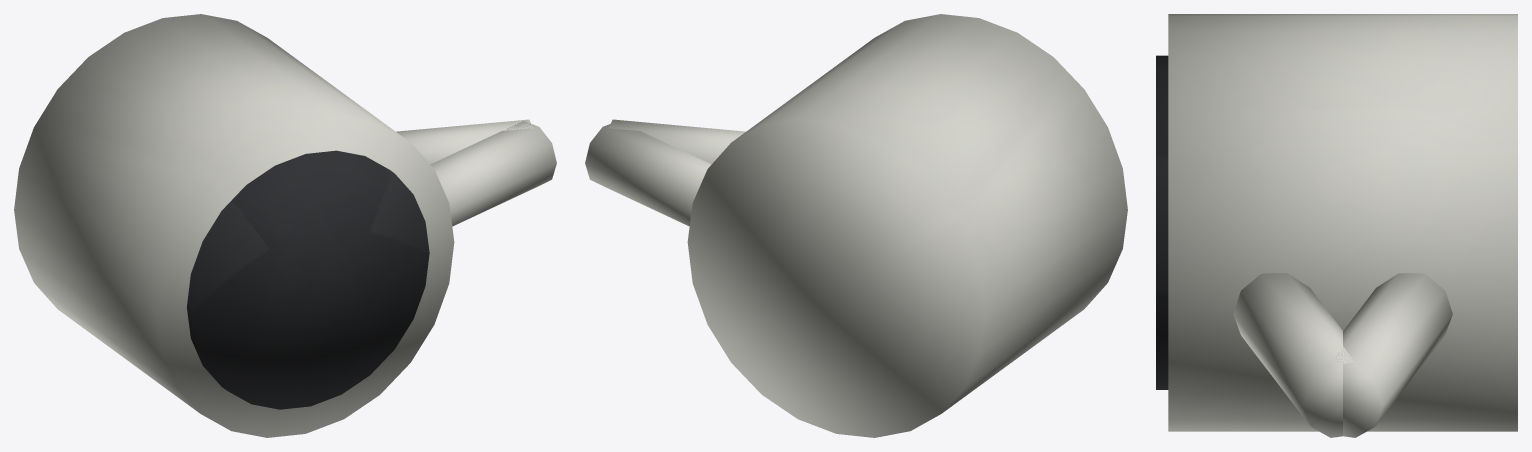
File: MUG_CERAMIC_001.glb
3 views of the same model, side by side, from view 1: azimuth 30°, elevation 25°; view 2: azimuth 150°, elevation 25°; view 3: azimuth 270°, elevation 25° (orthographic). The views are drawn at different scales.
Visible parts, largest first — view 1: mug_body_000, coffee_inside_001, handle_top_002, handle_bottom_003; view 2: mug_body_000, handle_bottom_003, handle_top_002; view 3: mug_body_000, handle_top_002, handle_bottom_003, coffee_inside_001.
Part boxes in pixels (bbox=[...]): mug_body_000: bbox=[14, 14, 454, 437]; coffee_inside_001: bbox=[186, 150, 429, 409]; handle_top_002: bbox=[430, 121, 556, 226]; handle_bottom_003: bbox=[396, 119, 533, 164]; mug_body_000: bbox=[687, 14, 1127, 437]; handle_bottom_003: bbox=[585, 121, 711, 226]; handle_top_002: bbox=[608, 119, 745, 164]; mug_body_000: bbox=[1168, 14, 1517, 431]; handle_top_002: bbox=[1233, 273, 1354, 437]; handle_bottom_003: bbox=[1333, 273, 1452, 437]; coffee_inside_001: bbox=[1156, 55, 1168, 389].
Size of the model in its own units: 0.1837 by 0.12 by 0.1035.
Materials: 2 (2 with a texture image).
